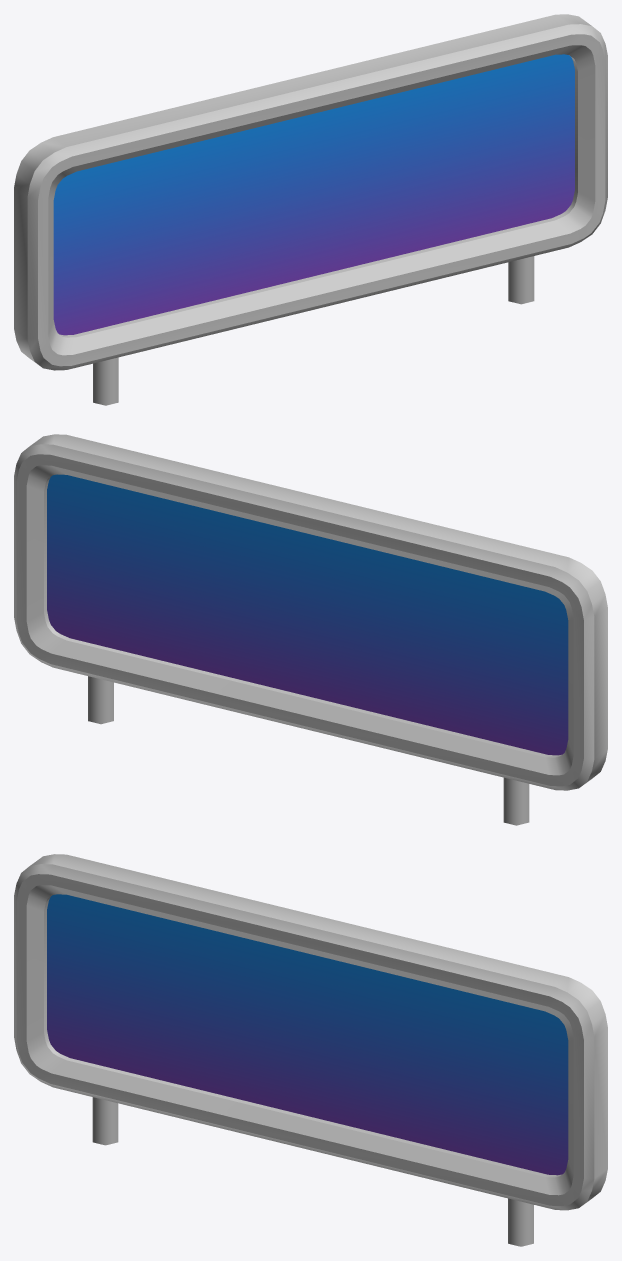
Rendered from obstacle_17_002.fbx.
3 views of the same model, one above another, from view 1: azimuth 30°, elevation 25°; view 2: azimuth 150°, elevation 25°; view 3: azimuth 330°, elevation 25° (orthographic).
Parts seen in each view (by area): view 1: obstacle_17_002; view 2: obstacle_17_002; view 3: obstacle_17_002.
Part boxes in pixels (bbox=[...]): obstacle_17_002: bbox=[14, 14, 607, 405]; obstacle_17_002: bbox=[14, 434, 607, 825]; obstacle_17_002: bbox=[14, 854, 607, 1246].
Bounding box in the file's own units: 366 × 23.47 × 162.
